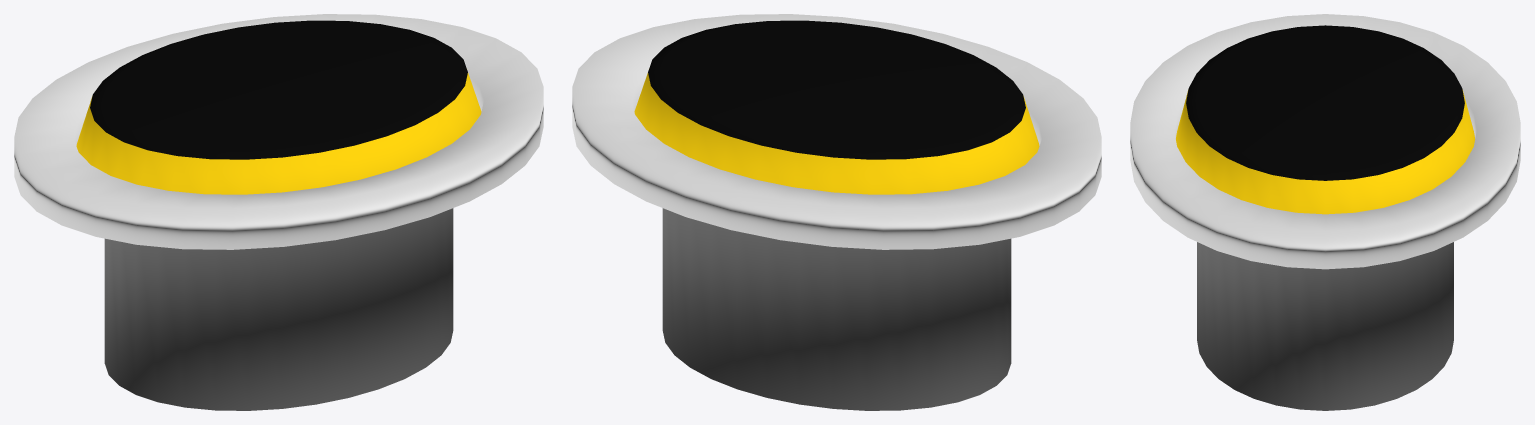
Rendered from CircularFretTop.fbx.
3 renders of one model, left to right at view 1: azimuth 30°, elevation 25°; view 2: azimuth 150°, elevation 25°; view 3: azimuth 270°, elevation 25°, orthographic. The views are drawn at different scales.
Parts seen in each view (by area): view 1: Cylinder.011; view 2: Cylinder.011; view 3: Cylinder.011.
Boxes of the visible parts, x1,y1,x2,y2 form: Cylinder.011: [14, 14, 543, 410]; Cylinder.011: [572, 14, 1101, 410]; Cylinder.011: [1130, 14, 1520, 410].
Size of the model in its own units: 48.75 by 25.15 by 36.95.
